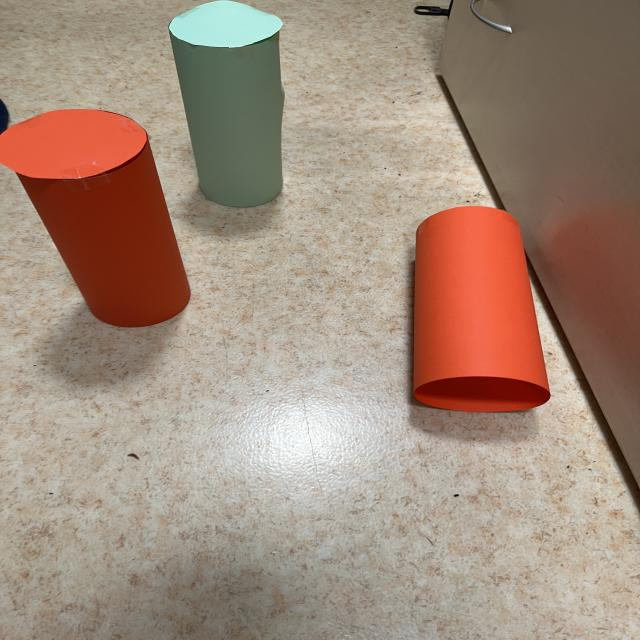meta: (168, 0, 285, 207)
przeszkoda: (0, 110, 190, 327), (414, 206, 550, 412)
